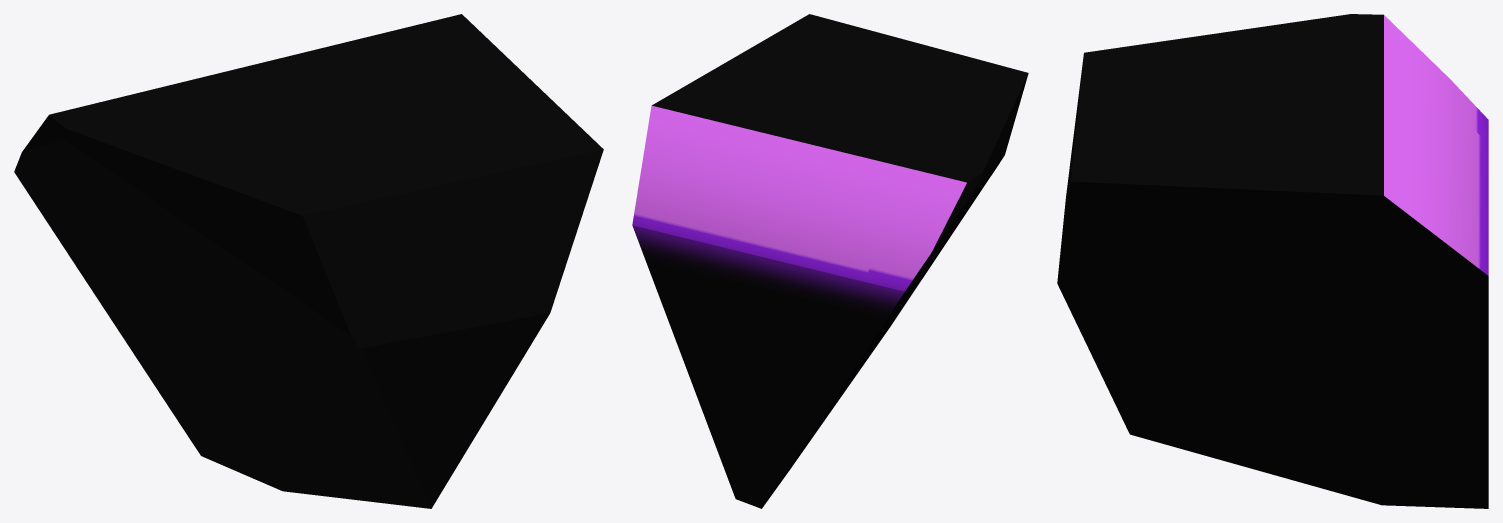
The model's file is blockParticle_3.obj.
3 renders of one model, left to right at view 1: azimuth 30°, elevation 25°; view 2: azimuth 150°, elevation 25°; view 3: azimuth 270°, elevation 25°, orthographic. The views are drawn at different scales.
Visible parts, largest first — view 1: 立方体_cell.003; view 2: 立方体_cell.003; view 3: 立方体_cell.003.
Boxes of the visible parts, x1,y1,x2,y2 form: 立方体_cell.003: (14,14,603,508); 立方体_cell.003: (632,14,1028,508); 立方体_cell.003: (1057,14,1488,508).
Bounding box in the file's own units: 0.8706 × 0.8736 × 0.8734.
